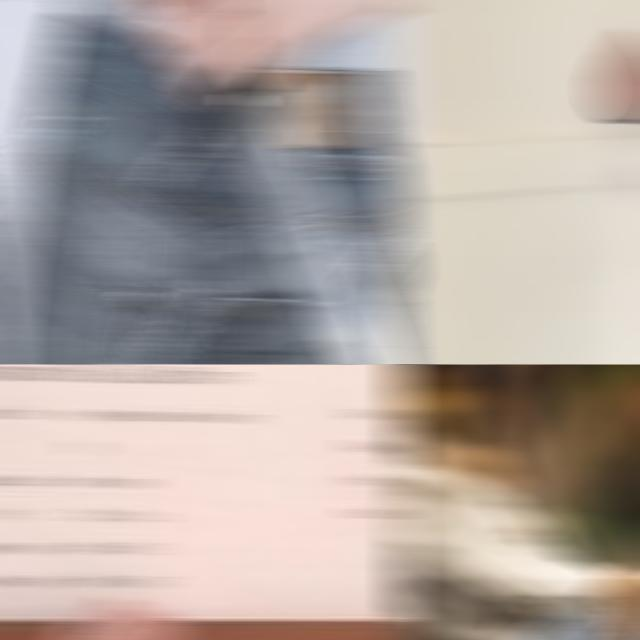Knife: (204, 63, 397, 364)
Knife_Handle: (130, 0, 412, 364)
